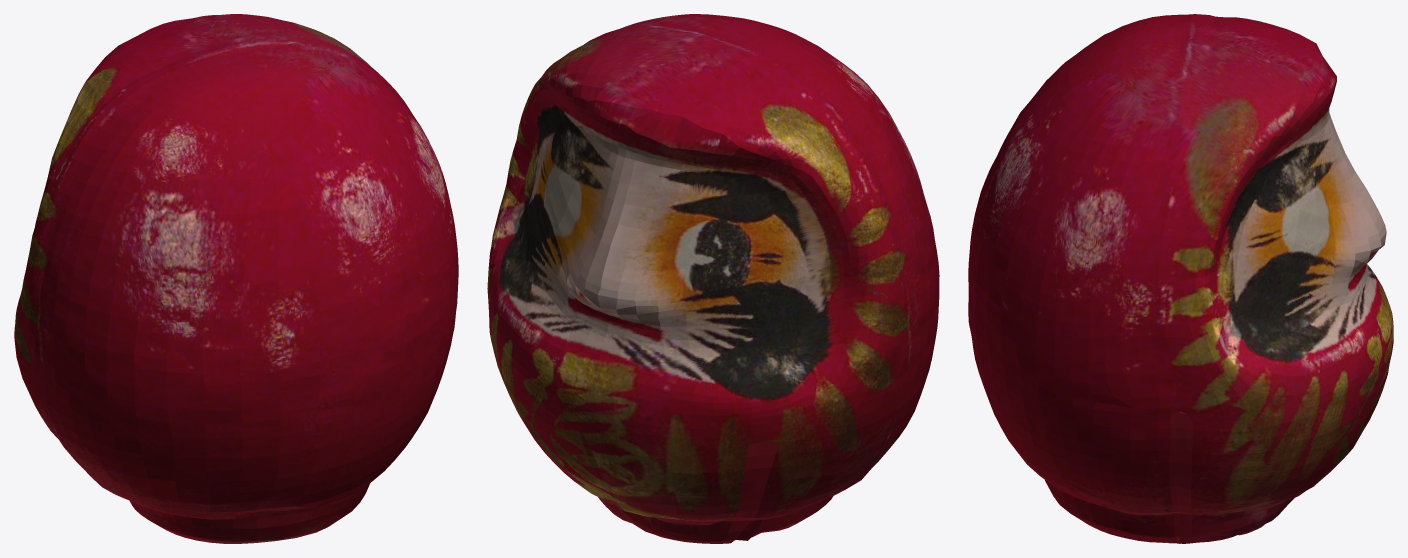
File: daruma.glb
The picture shows the model from 3 angles, left to right: view 1: azimuth 30°, elevation 25°; view 2: azimuth 150°, elevation 25°; view 3: azimuth 270°, elevation 25°; orthographic projection. The views are drawn at different scales.
Visible parts, largest first — view 1: retopo_0; view 2: retopo_0; view 3: retopo_0.
Boxes of the visible parts, bbox=[...] form: retopo_0: bbox=[14, 14, 458, 543]; retopo_0: bbox=[487, 14, 939, 543]; retopo_0: bbox=[968, 14, 1393, 543].
Size of the model in its own units: 98.16 by 111 by 90.83.
1 material, 1 textured.
